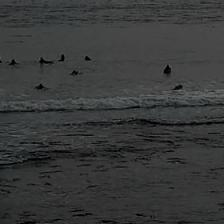surfer: (38, 57, 53, 64), (8, 58, 18, 66), (163, 65, 172, 73), (35, 84, 46, 90), (174, 84, 183, 90), (70, 70, 80, 75), (60, 55, 65, 62), (84, 56, 91, 61), (0, 55, 2, 65)
